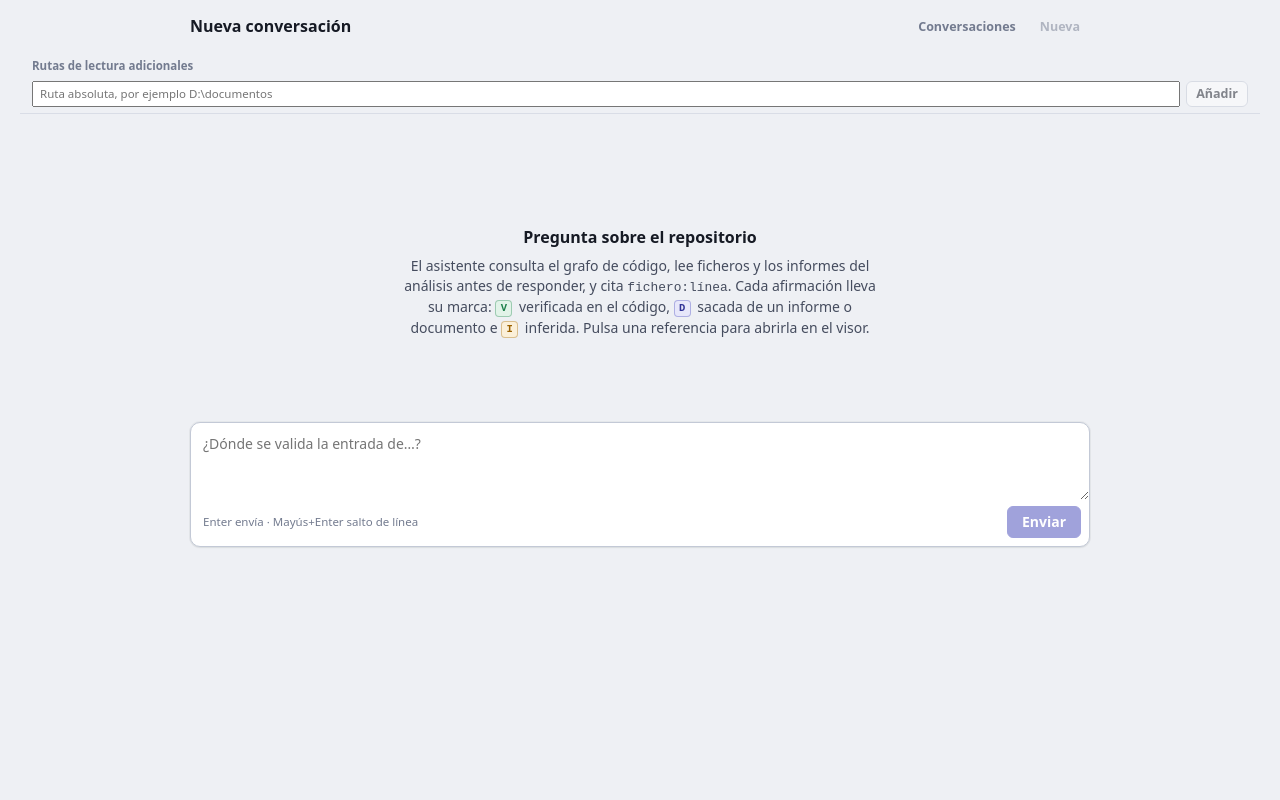
Test: Chat en streaming › un 409 del servidor se muestra como aviso y no deja turno a medias
Type "Hola" into the text box named "Pregunta" at (640, 462), box [191,423,1089,500]
Then press Enter
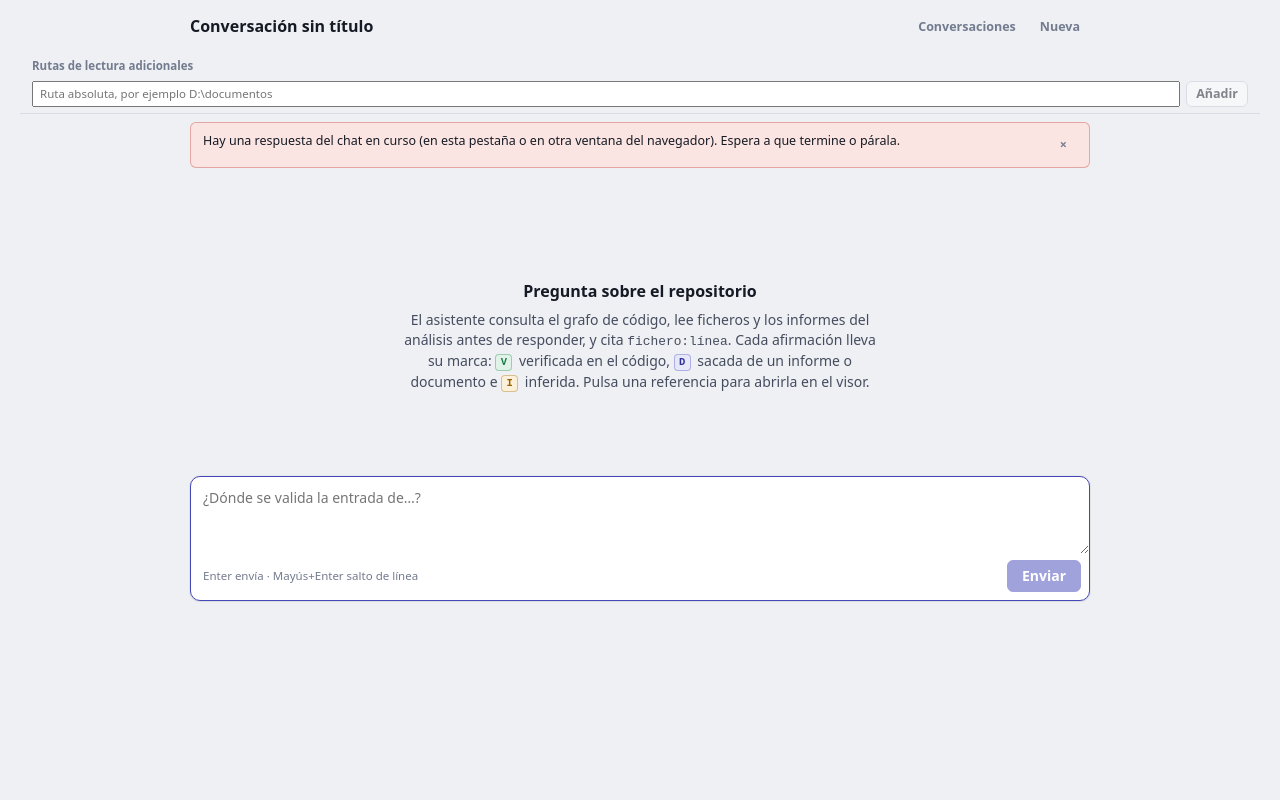
Expected: the message shows "Hay una respuesta del chat en curso", [203,132,900,149]
